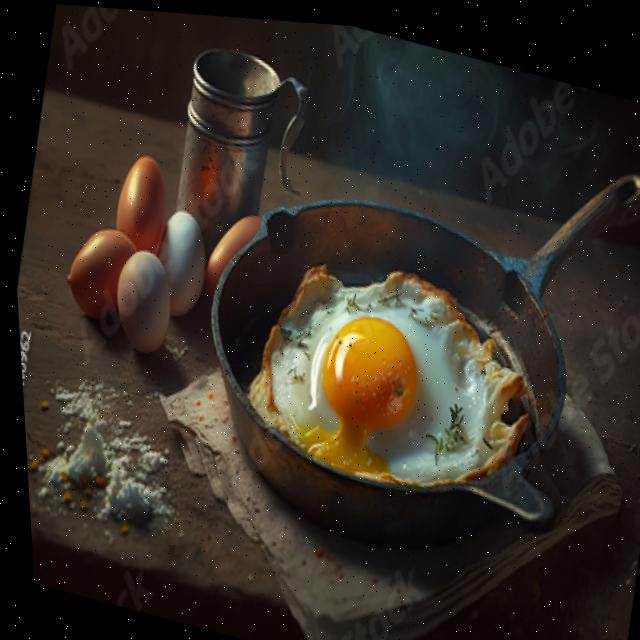Egg: (244, 262, 522, 477)
